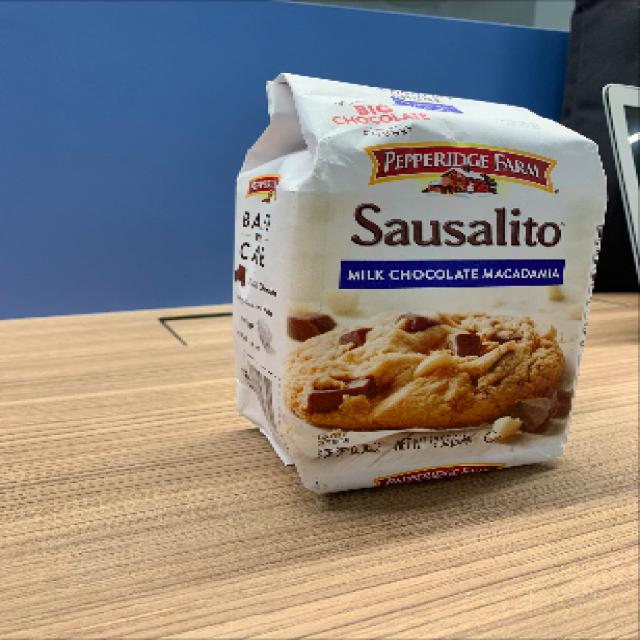object_name: (269, 88, 580, 470)
